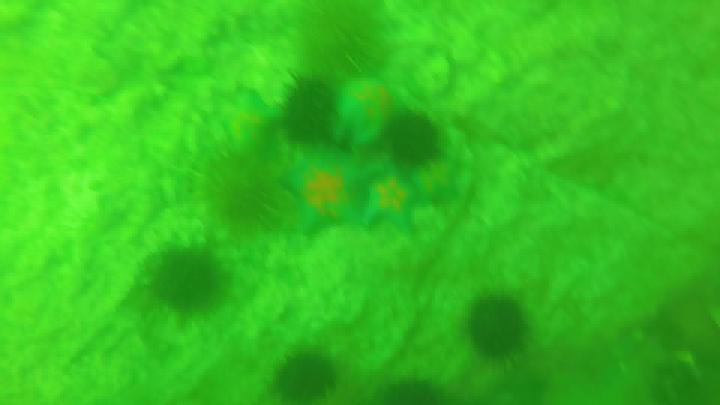echinus: (302, 1, 388, 72), (201, 149, 277, 224), (142, 239, 220, 311), (282, 72, 336, 141), (272, 349, 337, 405), (469, 297, 526, 358), (380, 108, 439, 165), (380, 379, 447, 405)
starfish: (276, 149, 367, 230), (368, 169, 428, 231)
